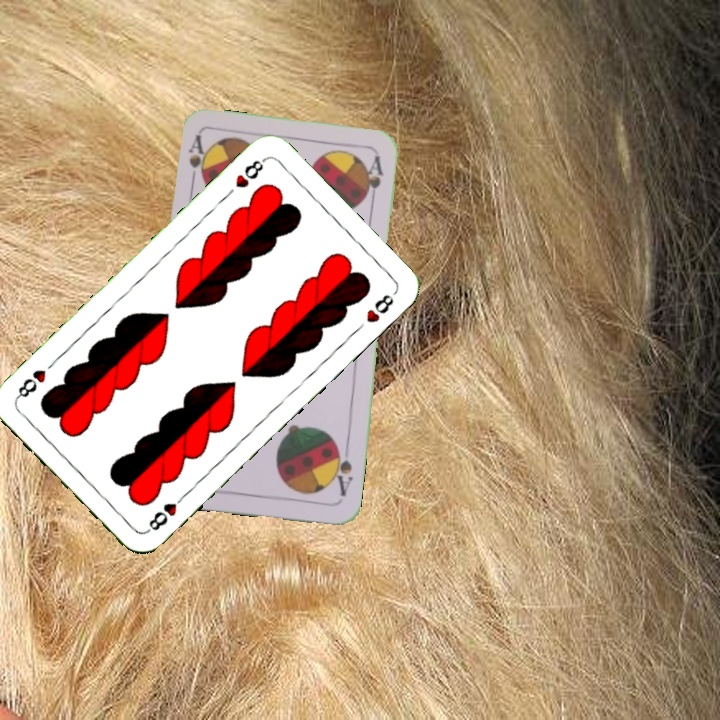H8: (142, 489, 189, 536), (231, 154, 268, 191)
SA: (328, 440, 356, 499), (185, 131, 208, 191)
